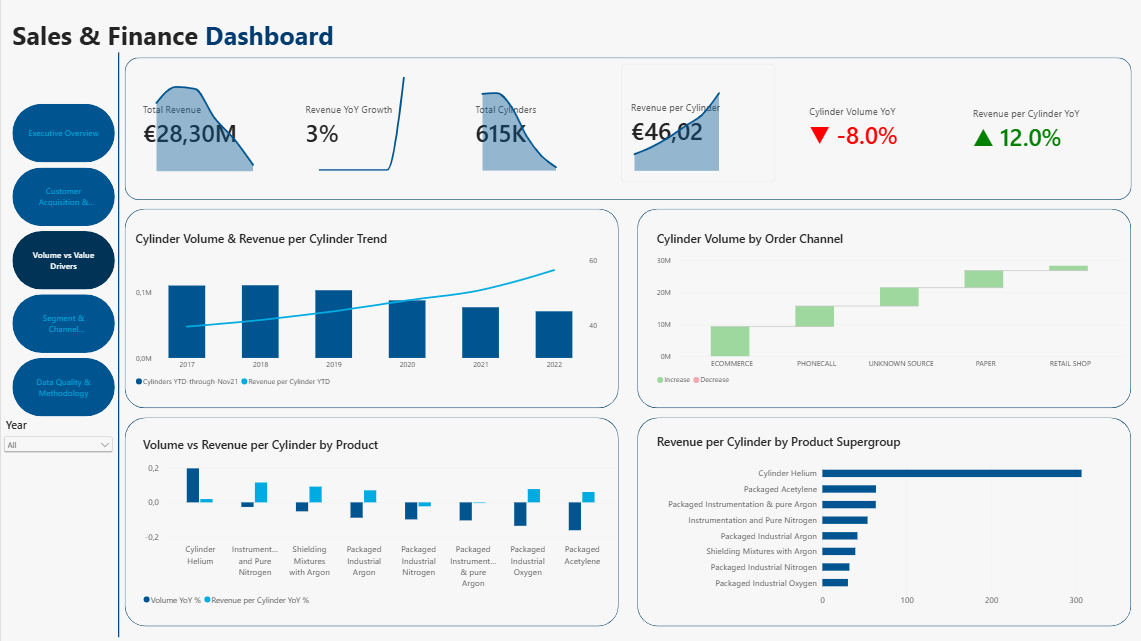

This screenshot's page, from the dashboard's own definition file:
{"tool":"powerbi","page":{"name":"Volume vs Value Drivers","canvas":[1920,1080],"ordinal":2},"visuals":[{"type":"shape","box":[208,704,832,352],"z":0},{"type":"shape","box":[1072,704,832,352],"z":1000},{"type":"shape","box":[1072,352,832,336],"z":2000},{"type":"shape","box":[208,352,832,336],"z":3000},{"type":"shape","box":[208,96,1696,240],"z":4000},{"type":"slicer","fields":{"Values":["Year Selector.Year"]},"box":[0,703.7,192.8,89.3],"z":5000},{"type":"waterfallChart","title":"Cylinder Volume by Order Channel ","fields":{"Category":["Order.ORDER_CHANNEL"],"Y":["Order.Total Revenue"]},"box":[1088.2,372.1,821.4,296.5],"z":6000},{"type":"barChart","title":"Revenue per Cylinder by Product Supergroup","fields":{"Category":["Order.PRODUCT_SUPERGROUP"],"Y":["Order.Revenue per Cylinder Current LTL"]},"box":[1088.2,716.1,821.4,326.2],"z":7000},{"type":"clusteredColumnChart","title":"Volume vs Revenue per Cylinder by Product","fields":{"Category":["Order.PRODUCT_SUPERGROUP"],"Y":["Order.Volume YoY %","Order.Revenue per Cylinder YoY %"]},"box":[224,720,832,320],"z":8000},{"type":"textbox","box":[19,29.2,557.3,80.2],"z":9000},{"type":"shape","box":[192,88,13.1,984.8],"z":10000},{"type":"cardVisual","fields":{"Data":["Order.Revenue YTD-through-Nov21"]},"box":[224,112,260,200],"z":11000},{"type":"cardVisual","fields":{"Data":["Order.Cylinders YTD-through-Nov21"]},"box":[784,112,260,200],"z":12000},{"type":"cardVisual","fields":{"Data":["Order.Revenue YoY % Correct"]},"box":[496,112,260,200],"z":13000},{"type":"cardVisual","fields":{"Data":["Order.Revenue per Cylinder YTD"]},"box":[1043.9,108.1,260,200],"z":14000},{"type":"cardVisual","fields":{"Data":["Order.Volume YoY Display"]},"box":[1344.7,120.1,259.5,191.3],"z":15000},{"type":"cardVisual","fields":{"Data":["Order.Revenue YoY Display"]},"box":[1620.5,120.1,259.5,198.7],"z":16000},{"type":"lineStackedColumnComboChart","title":"Cylinder Volume & Revenue per Cylinder Trend","fields":{"Category":["Date.Year"],"Y":["Order.Cylinders YTD-through-Nov21"],"Y2":["Order.Revenue per Cylinder YTD"]},"box":[210.5,372.1,809.5,299.5],"z":17000},{"type":"pageNavigator","box":[18.8,174,174,529.8],"z":18000},{"type":"areaChart","fields":{"Category":["Year Selector.Year"],"Y":["Order.Total Revenue"]},"box":[235.1,111.3,214.7,192.8],"z":19000},{"type":"hundredPercentStackedAreaChart","fields":{"Category":["Year Selector.Year"],"Y":["Order.Revenue YoY % Correct"]},"box":[481.2,108.1,222.6,195.9],"z":19001},{"type":"stackedAreaChart","fields":{"Category":["Year Selector.Year"],"Y":["Order.Cylinders YTD-through-Nov21"]},"box":[760.2,108.1,200.6,195.9],"z":19002},{"type":"stackedAreaChart","fields":{"Category":["Year Selector.Year"],"Y":["Order.Revenue per Cylinder YTD"]},"box":[1012.5,116,222.6,188.1],"z":19003}]}

Visuals, with their boxes in screenshot pixels (x1, y1, x2, y2), scaled from the page's 1920x1080 canvas onto the 1141x641 screenshot:
shape: 124/418/618/627
shape: 637/418/1131/627
shape: 637/209/1131/408
shape: 124/209/618/408
shape: 124/57/1131/199
slicer - Year Selector.Year: 0/418/115/471
"Cylinder Volume by Order Channel " waterfallChart: 647/221/1135/397
"Revenue per Cylinder by Product Supergroup" barChart: 647/425/1135/619
"Volume vs Revenue per Cylinder by Product" clusteredColumnChart: 133/427/628/617
textbox: 11/17/342/65
shape: 114/52/122/637
cardVisual - Order.Revenue YTD-through-Nov21: 133/66/288/185
cardVisual - Order.Cylinders YTD-through-Nov21: 466/66/620/185
cardVisual - Order.Revenue YoY % Correct: 295/66/449/185
cardVisual - Order.Revenue per Cylinder YTD: 620/64/775/183
cardVisual - Order.Volume YoY Display: 799/71/953/185
cardVisual - Order.Revenue YoY Display: 963/71/1117/189
"Cylinder Volume & Revenue per Cylinder Trend" lineStackedColumnComboChart: 125/221/606/399
pageNavigator: 11/103/115/418
areaChart - Year Selector.Year x Order.Total Revenue: 140/66/267/180
hundredPercentStackedAreaChart - Year Selector.Year x Order.Revenue YoY % Correct: 286/64/418/180
stackedAreaChart - Year Selector.Year x Order.Cylinders YTD-through-Nov21: 452/64/571/180
stackedAreaChart - Year Selector.Year x Order.Revenue per Cylinder YTD: 602/69/734/180
